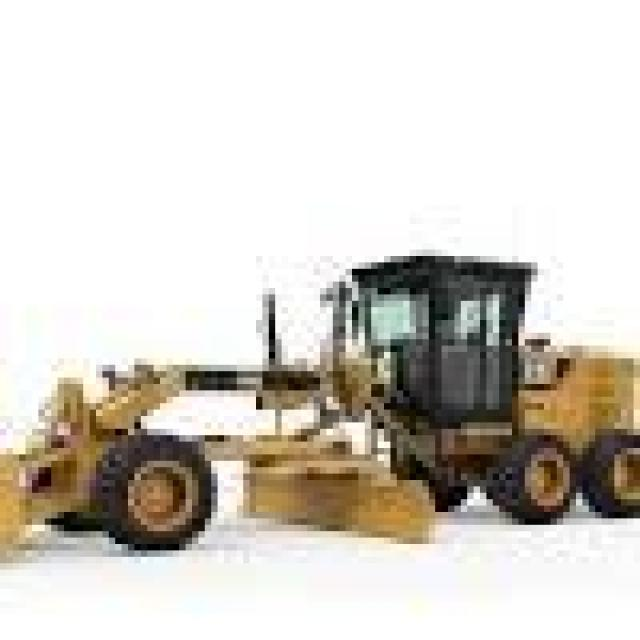buldozerpayloadergrader: (0, 186, 634, 531)
